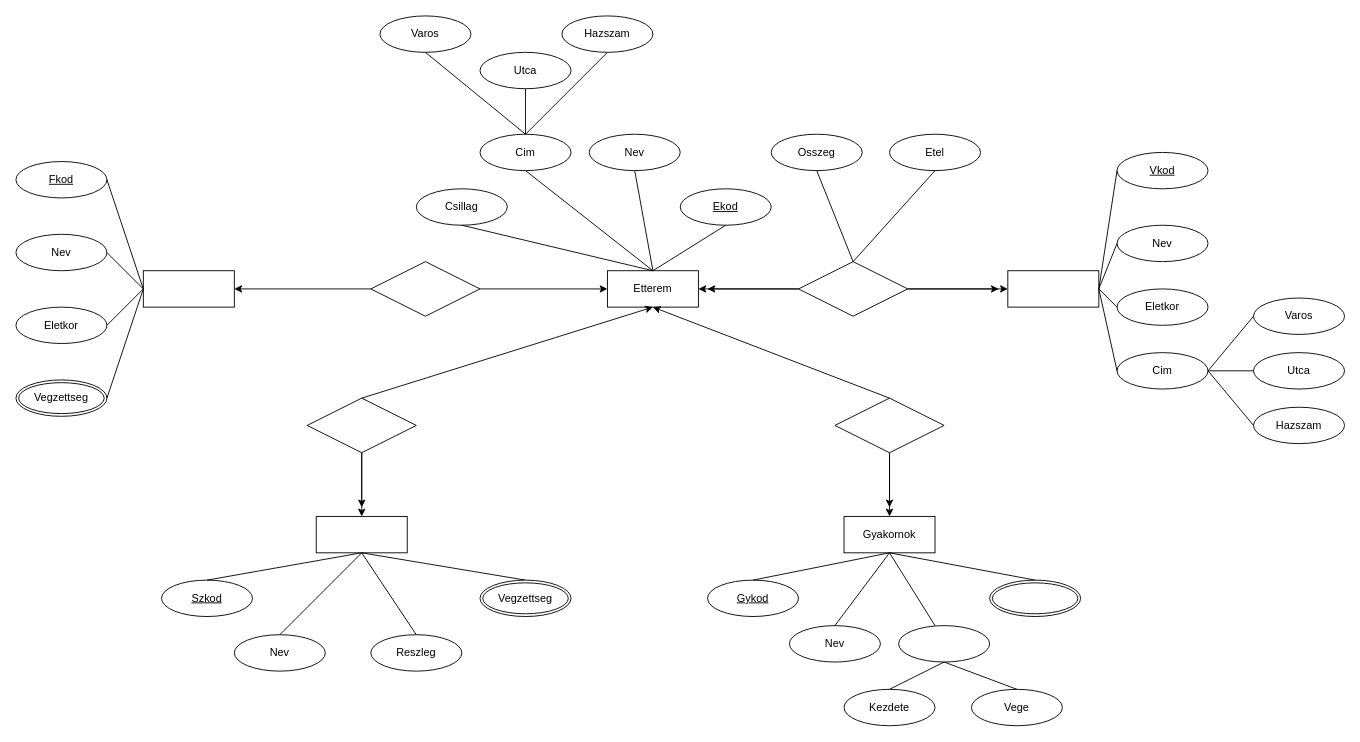
The diagram is 1360 pixels wide and 742 high, and some of its shapes have lost their labels. The centre of each missing label's shape, as x and y in pixels:
"E-F" belongs at pixel 425 288.
"E-Gy" belongs at pixel 889 425.
"E-Sz" belongs at pixel 361 425.
"Foszakacs" belongs at pixel 188 288.
"Gyakorlat" belongs at pixel 944 643.
"Muszak" belongs at pixel 1035 598.
"Rendeles" belongs at pixel 853 288.
"Szakacs" belongs at pixel 361 534.
"Vendeg" belongs at pixel 1053 288.
